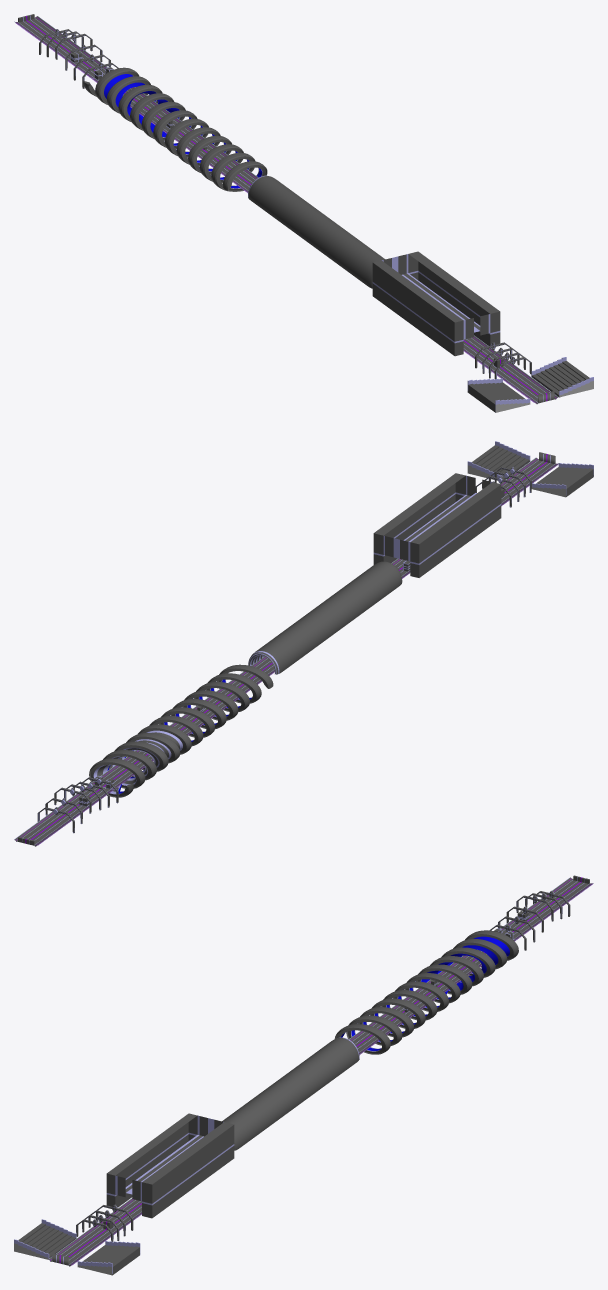
The model's file is PistaX_0.2.fbx.
The picture shows the model from 3 angles, top to bottom: view 1: azimuth 30°, elevation 25°; view 2: azimuth 150°, elevation 25°; view 3: azimuth 330°, elevation 25°; orthographic projection.
Parts seen in each view (by area): view 1: pCube12, pHelix1, pCube3, pPipe1, pCube11, pCube4; view 2: pCube12, pHelix1, pPipe1, pCube3, pCube11, pCube4; view 3: pCube12, pHelix1, pCube3, pPipe1, pCube4, pCube11.
Boxes of the visible parts, box(x1,y1,x2,y2) form: pCube12: box(372, 251, 500, 356); pHelix1: box(83, 67, 267, 191); pCube3: box(14, 14, 558, 404); pPipe1: box(248, 175, 385, 288); pCube11: box(531, 357, 593, 397); pCube4: box(467, 378, 530, 412); pCube12: box(373, 473, 501, 577); pHelix1: box(89, 664, 273, 797); pPipe1: box(248, 561, 402, 674); pCube3: box(14, 452, 558, 846); pCube11: box(467, 441, 530, 480); pCube4: box(531, 463, 593, 497); pCube12: box(106, 1113, 234, 1218); pHelix1: box(334, 930, 518, 1054); pCube3: box(48, 875, 593, 1266); pPipe1: box(222, 1037, 359, 1150); pCube4: box(14, 1219, 76, 1259); pCube11: box(77, 1241, 140, 1275).
Bounding box in the file's own units: 921 × 427 × 8449.
